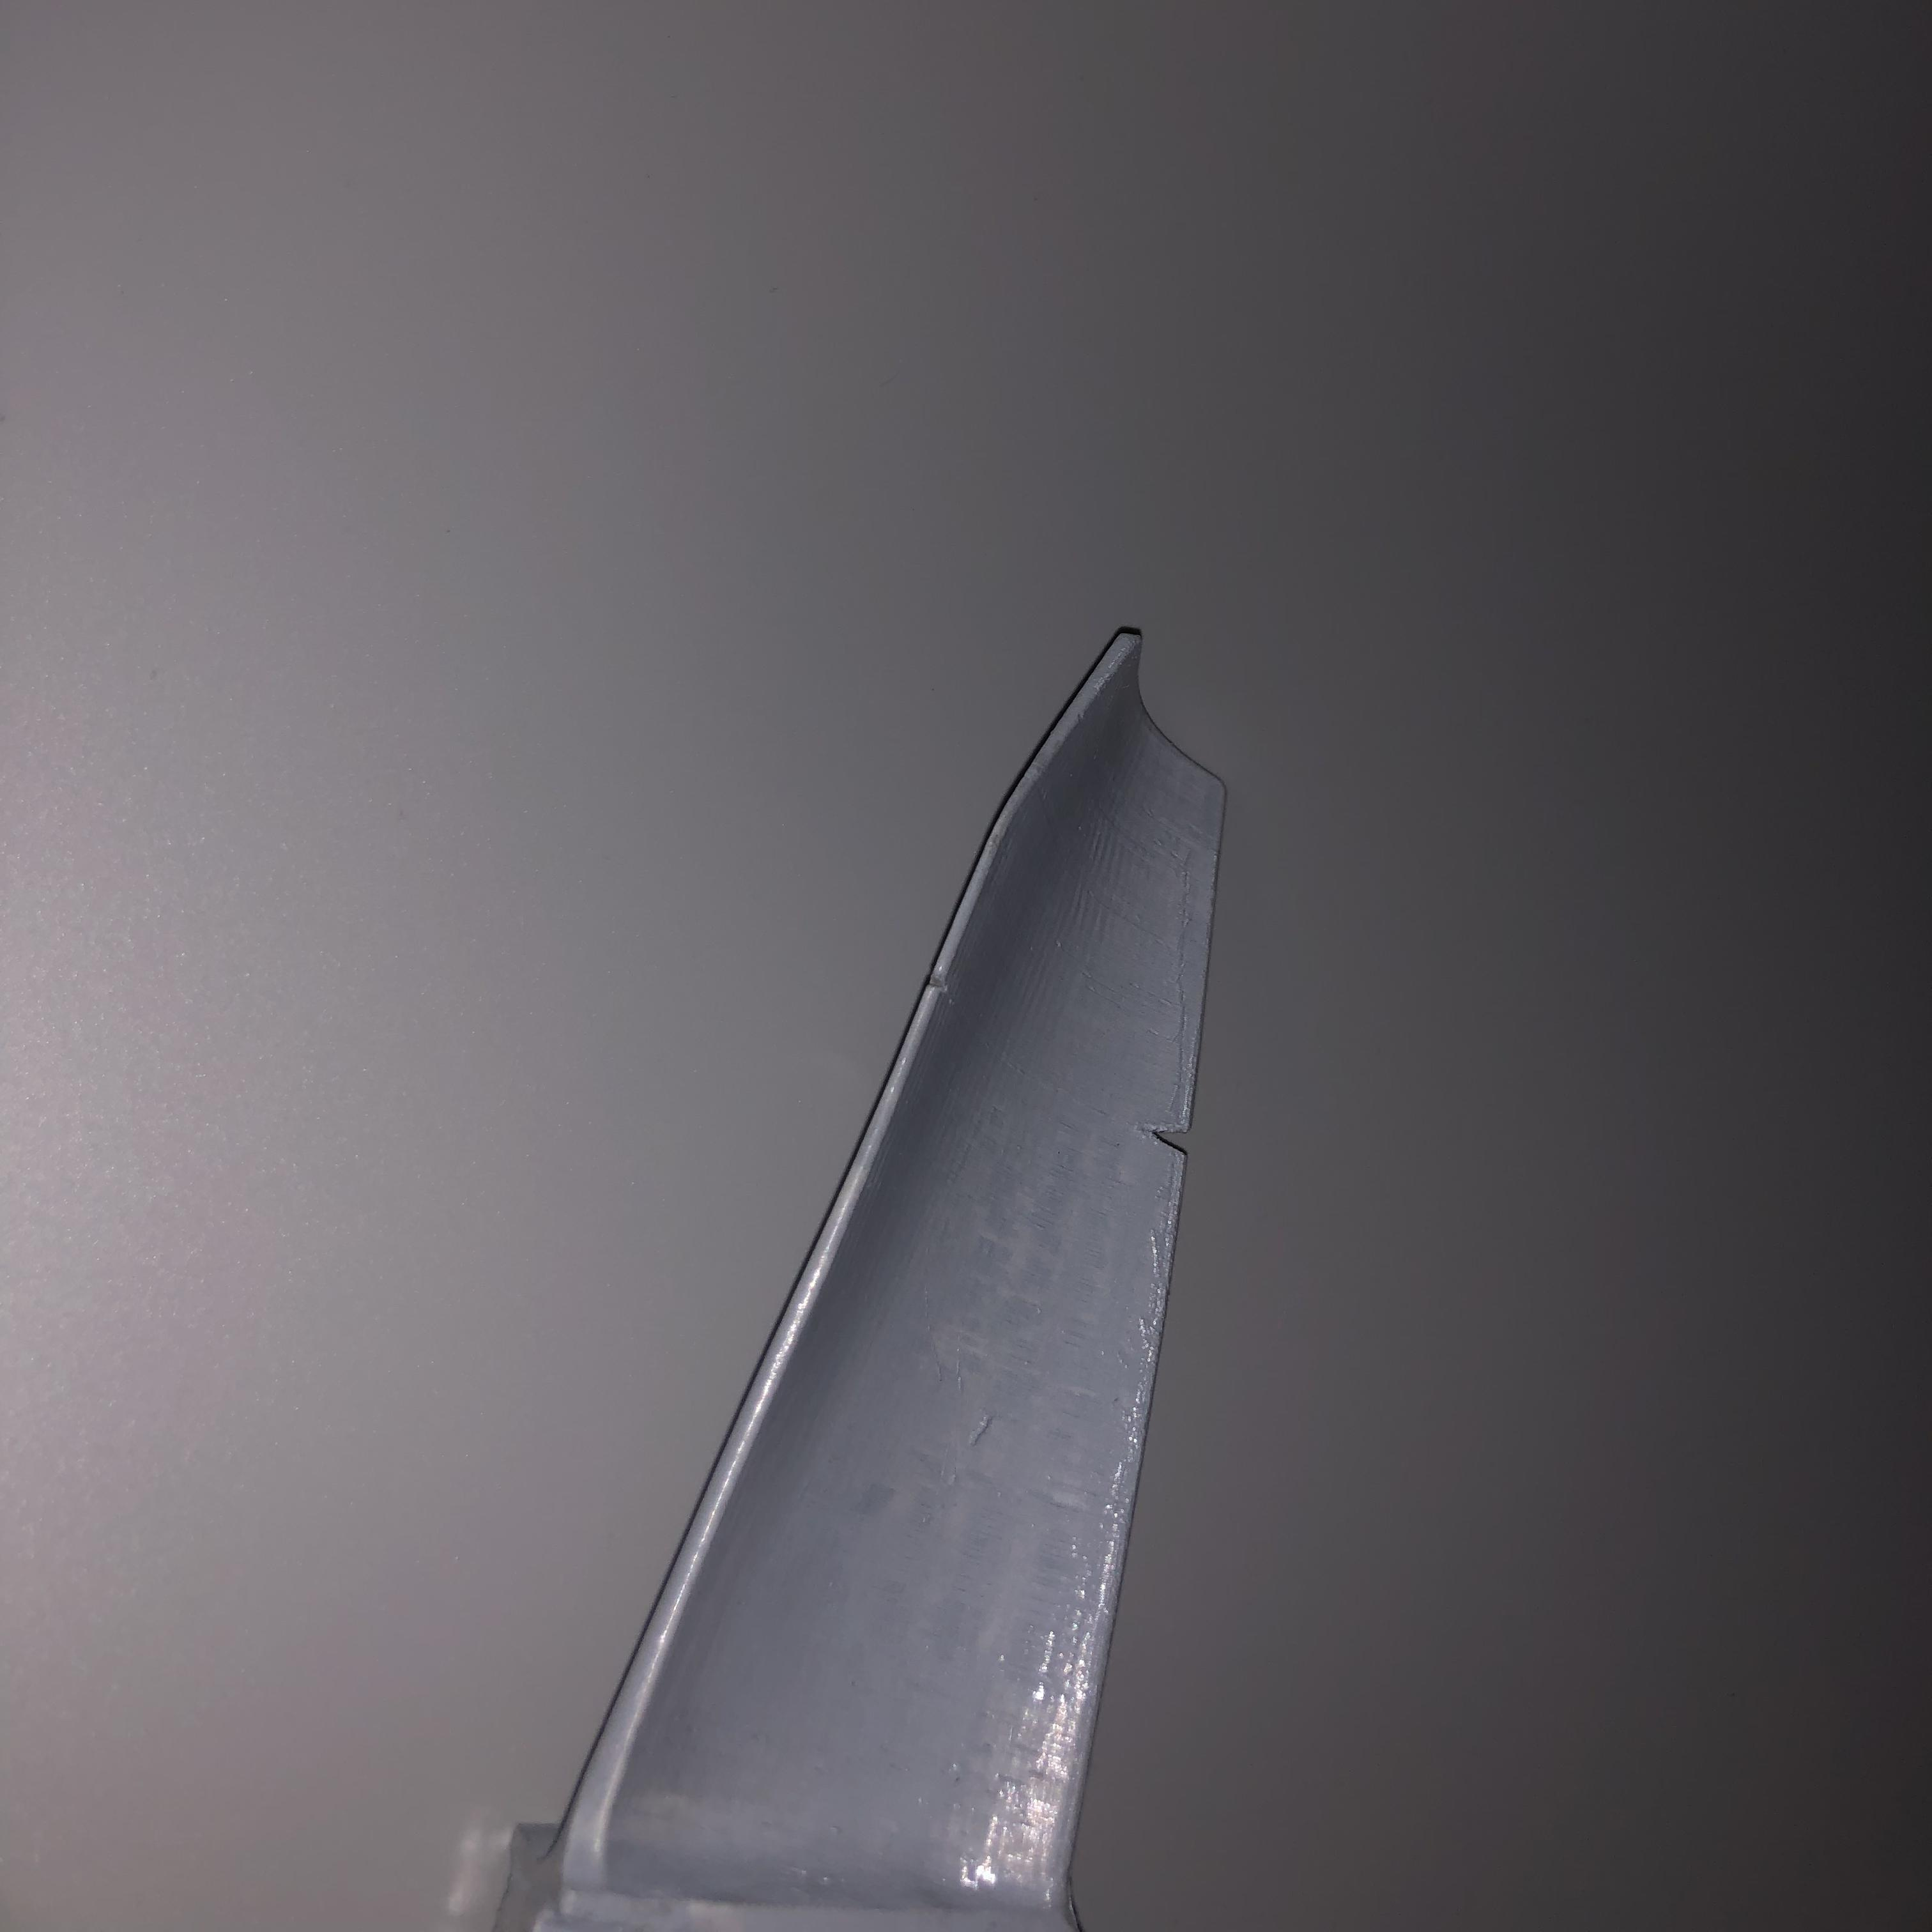groove: (1141, 1113, 1196, 1157), (925, 966, 959, 994)
